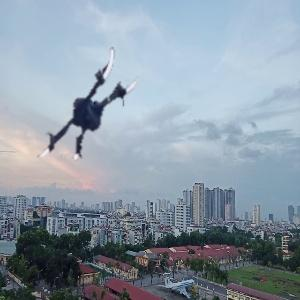drone: (15, 38, 146, 169)
